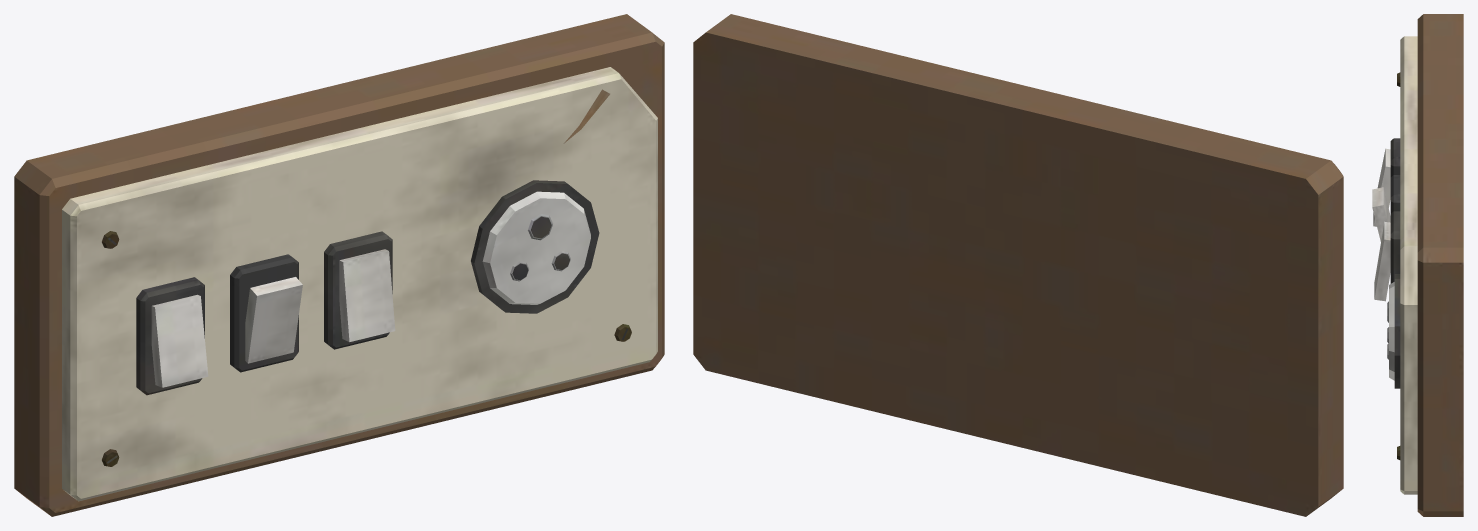
The model's file is U09_wall_switchboard_v1.glb.
3 views of the same model, side by side, from view 1: azimuth 30°, elevation 25°; view 2: azimuth 150°, elevation 25°; view 3: azimuth 270°, elevation 25° (orthographic). The views are drawn at different scales.
Visible parts, largest first — view 1: Wall Switchboard; view 2: Wall Switchboard; view 3: Wall Switchboard.
Boxes of the visible parts, x1,y1,x2,y2 form: Wall Switchboard: (14, 14, 664, 516); Wall Switchboard: (693, 14, 1343, 516); Wall Switchboard: (1372, 14, 1463, 516).
Bounding box in the file's own units: 0.3 × 0.155 × 0.0477.
9 materials, 9 textured.
